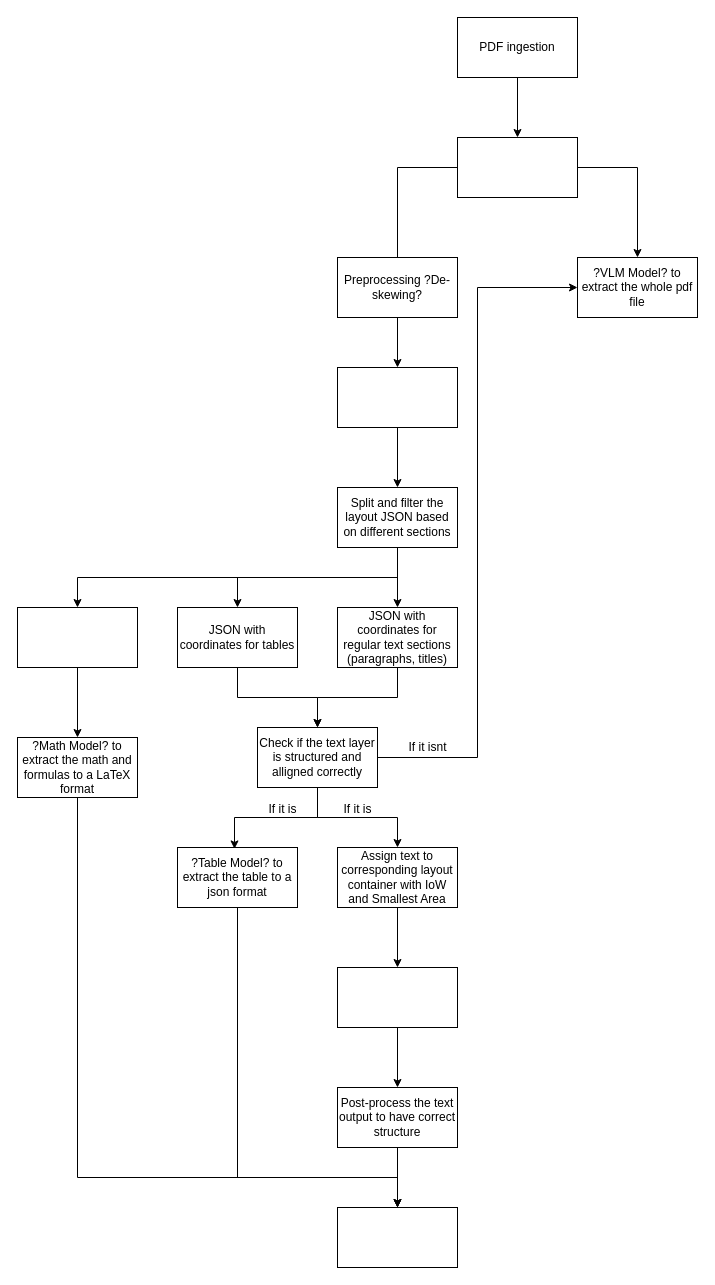
Image size: 715x1285. Some labels were removed from this diagram. The shapes that lost their labels are listed below. From the top down, each one's centre as x and y in pixels, then its label:
the point at 517,167: Check if there is a text layer
the point at 397,397: PP-DocLayoutv2 for layout detection
the point at 77,637: JSON with coordinates for math and formulas
the point at 397,997: PDFPlumber to extract the words
the point at 397,1237: Reconstruct each output to a single one
